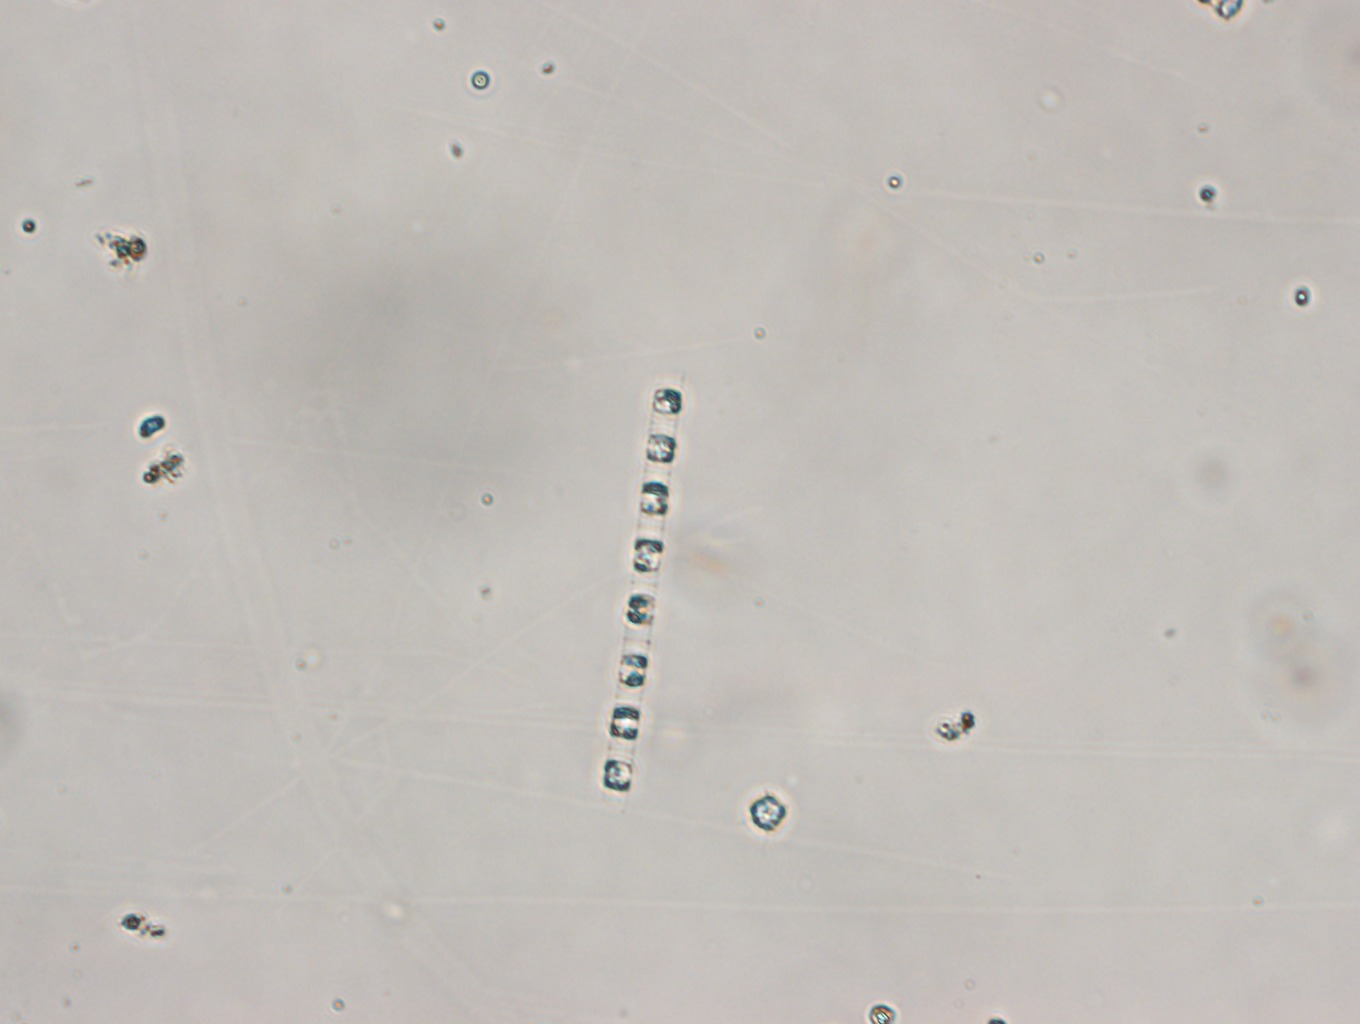skeletonema: (595, 380, 697, 803)
